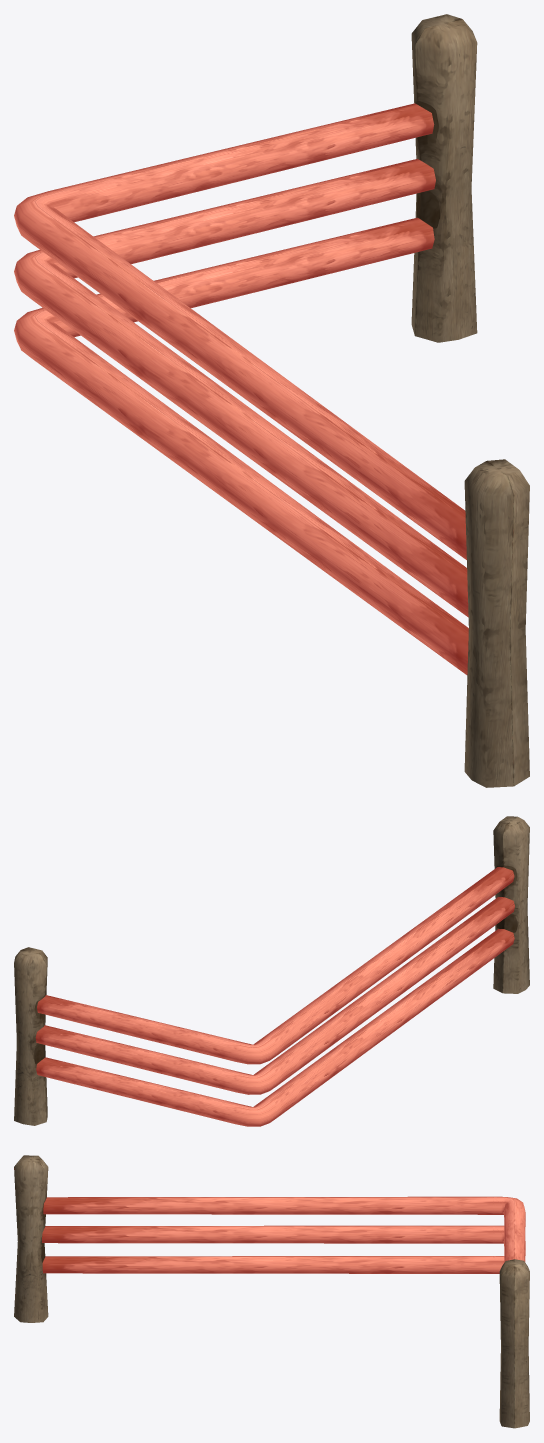
File: gradecurvada 2_.fbx
The picture shows the model from 3 angles, top to bottom: view 1: azimuth 30°, elevation 25°; view 2: azimuth 150°, elevation 25°; view 3: azimuth 270°, elevation 25°; orthographic projection. The views are drawn at different scales.
Visible parts, largest first — view 1: Cube.003; view 2: Cube.003; view 3: Cube.003.
Boxes of the visible parts, x1,y1,x2,y2 form: Cube.003: [14, 14, 529, 787]; Cube.003: [14, 816, 529, 1126]; Cube.003: [14, 1155, 529, 1428].
Size of the model in its own units: 308 by 191 by 568.
1 material, 1 textured.
